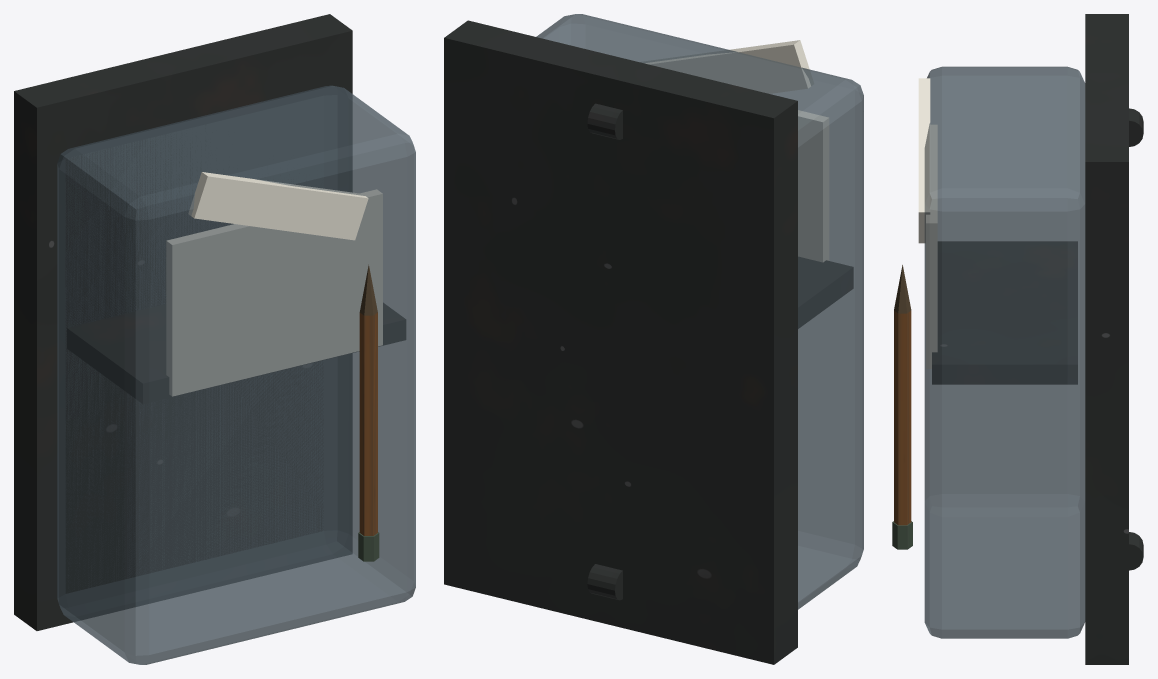
The model's file is ctl_dropoff_props.glb.
3 renders of one model, left to right at view 1: azimuth 30°, elevation 25°; view 2: azimuth 150°, elevation 25°; view 3: azimuth 270°, elevation 25°, orthographic. The views are drawn at different scales.
Visible parts, largest first — view 1: CTL_SupplyHolder_Body, CTL_SupplyHolder_Backplate, CTL_FilmEnvelope, CTL_FilmEnvelope_Flap, CTL_SupplyHolder_Divider, CTL_Pencil_Body; view 2: CTL_SupplyHolder_Backplate, CTL_SupplyHolder_Body, CTL_FilmEnvelope_Flap, CTL_FilmEnvelope, CTL_SupplyHolder_Divider, CTL_SupplyHolder_Screw_1.12, CTL_SupplyHolder_Screw_1.44; view 3: CTL_SupplyHolder_Body, CTL_SupplyHolder_Backplate, CTL_SupplyHolder_Divider, CTL_Pencil_Body, CTL_FilmEnvelope, CTL_FilmEnvelope_Flap, CTL_Pencil_Eraser, CTL_SupplyHolder_Screw_1.12, CTL_SupplyHolder_Screw_1.44, CTL_Pencil_Tip.
Boxes of the visible parts, box(x1,y1,x2,y2) form: CTL_SupplyHolder_Body: box(57, 85, 415, 664); CTL_SupplyHolder_Backplate: box(14, 14, 352, 630); CTL_FilmEnvelope: box(166, 189, 382, 396); CTL_FilmEnvelope_Flap: box(188, 172, 368, 240); CTL_SupplyHolder_Divider: box(67, 302, 406, 403); CTL_Pencil_Body: box(359, 312, 377, 535); CTL_SupplyHolder_Backplate: box(444, 20, 797, 664); CTL_SupplyHolder_Body: box(536, 14, 863, 609); CTL_FilmEnvelope_Flap: box(642, 40, 813, 93); CTL_FilmEnvelope: box(798, 110, 829, 262); CTL_SupplyHolder_Divider: box(798, 256, 853, 328); CTL_SupplyHolder_Screw_1.12: box(587, 564, 622, 600); CTL_SupplyHolder_Screw_1.44: box(587, 103, 622, 139); CTL_SupplyHolder_Body: box(924, 66, 1085, 638); CTL_SupplyHolder_Backplate: box(1085, 14, 1128, 664); CTL_SupplyHolder_Divider: box(932, 241, 1077, 384); CTL_Pencil_Body: box(894, 310, 911, 525); CTL_FilmEnvelope: box(926, 124, 937, 368); CTL_FilmEnvelope_Flap: box(918, 78, 930, 243); CTL_Pencil_Eraser: box(892, 521, 912, 549); CTL_SupplyHolder_Screw_1.12: box(1129, 532, 1143, 570); CTL_SupplyHolder_Screw_1.44: box(1129, 108, 1143, 146); CTL_Pencil_Tip: box(894, 265, 911, 313).
Size of the model in its own units: 0.24 by 0.38 by 0.172.
Materials: 6 (4 with a texture image).
